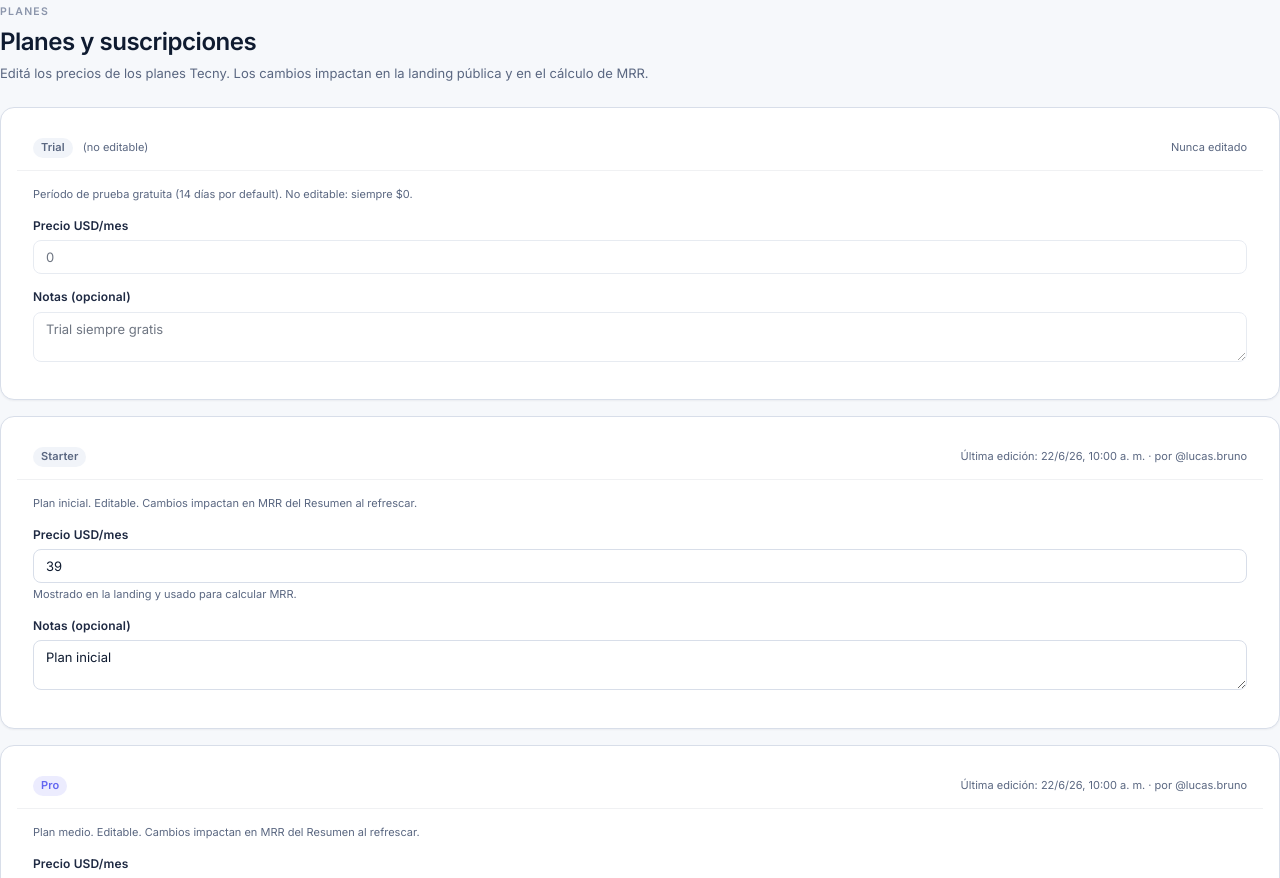
Scenario: Planes › error del backend muestra banner en el modal SIN cerrarlo
Replace the text in the number field named "Precio del plan starter" with "49" at coordinates (640, 566), box x1=33 y1=549 x2=1247 y2=583
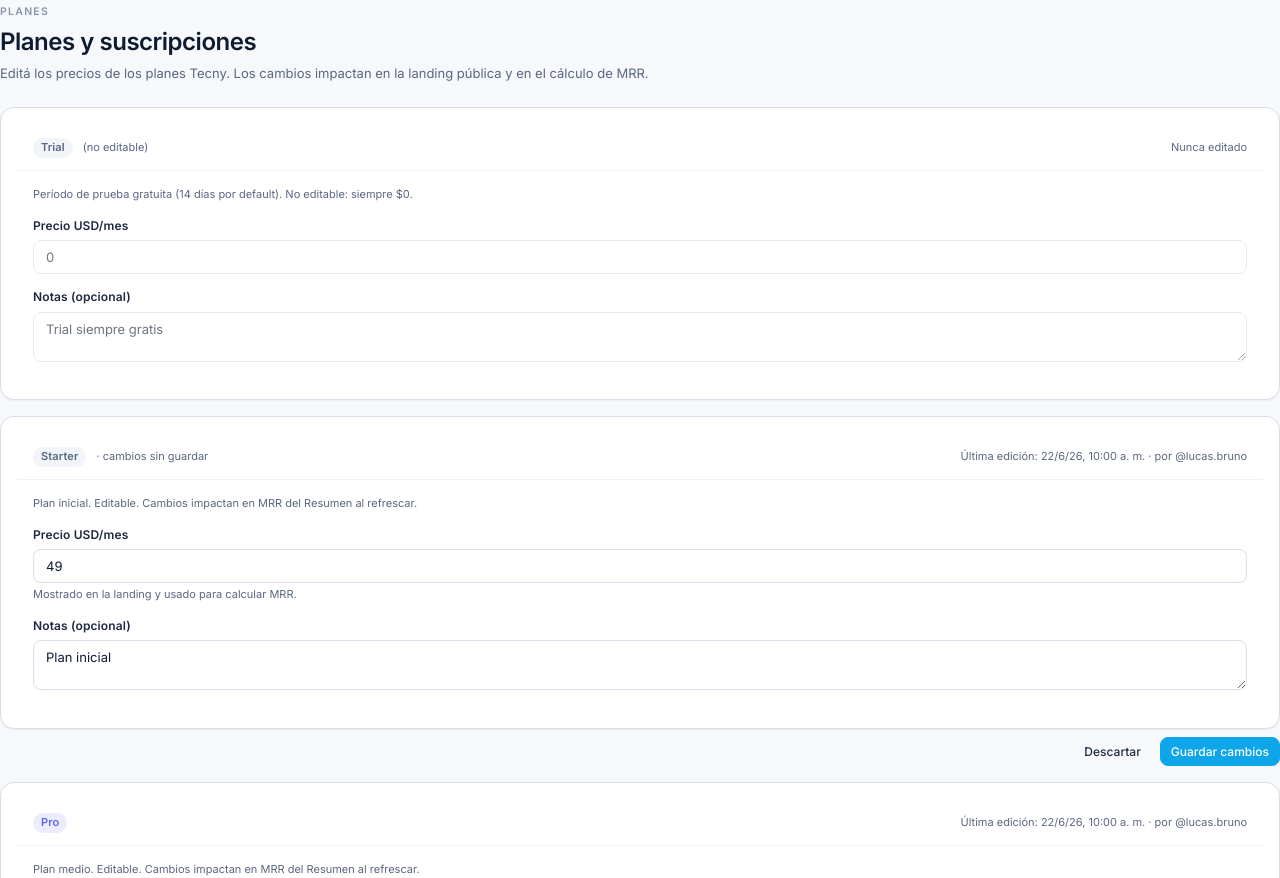
Click the button "Guardar cambios" at coordinates (1220, 751), box x1=1160 y1=737 x2=1279 y2=766
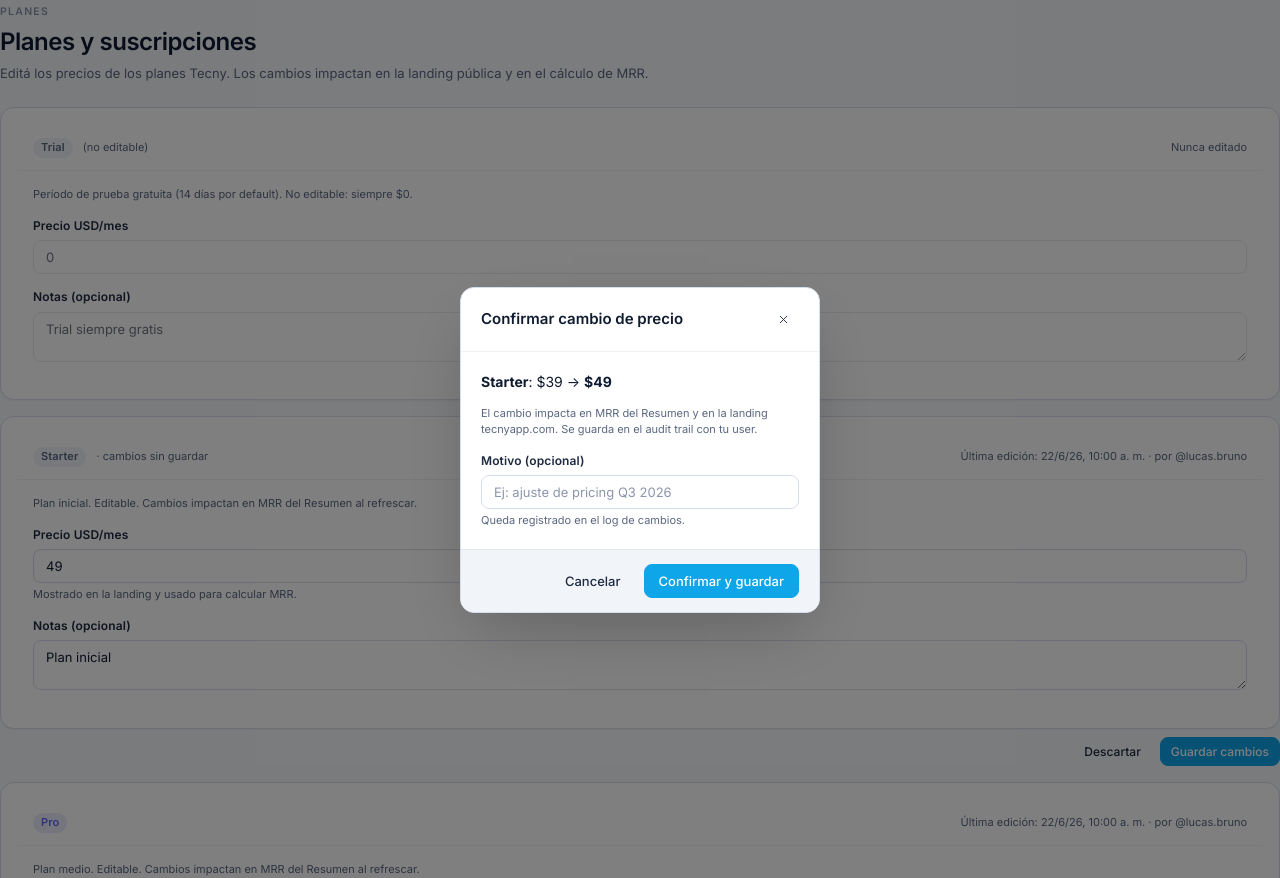
Click the button "Confirmar y guardar" at coordinates (721, 581), box x1=644 y1=564 x2=799 y2=598
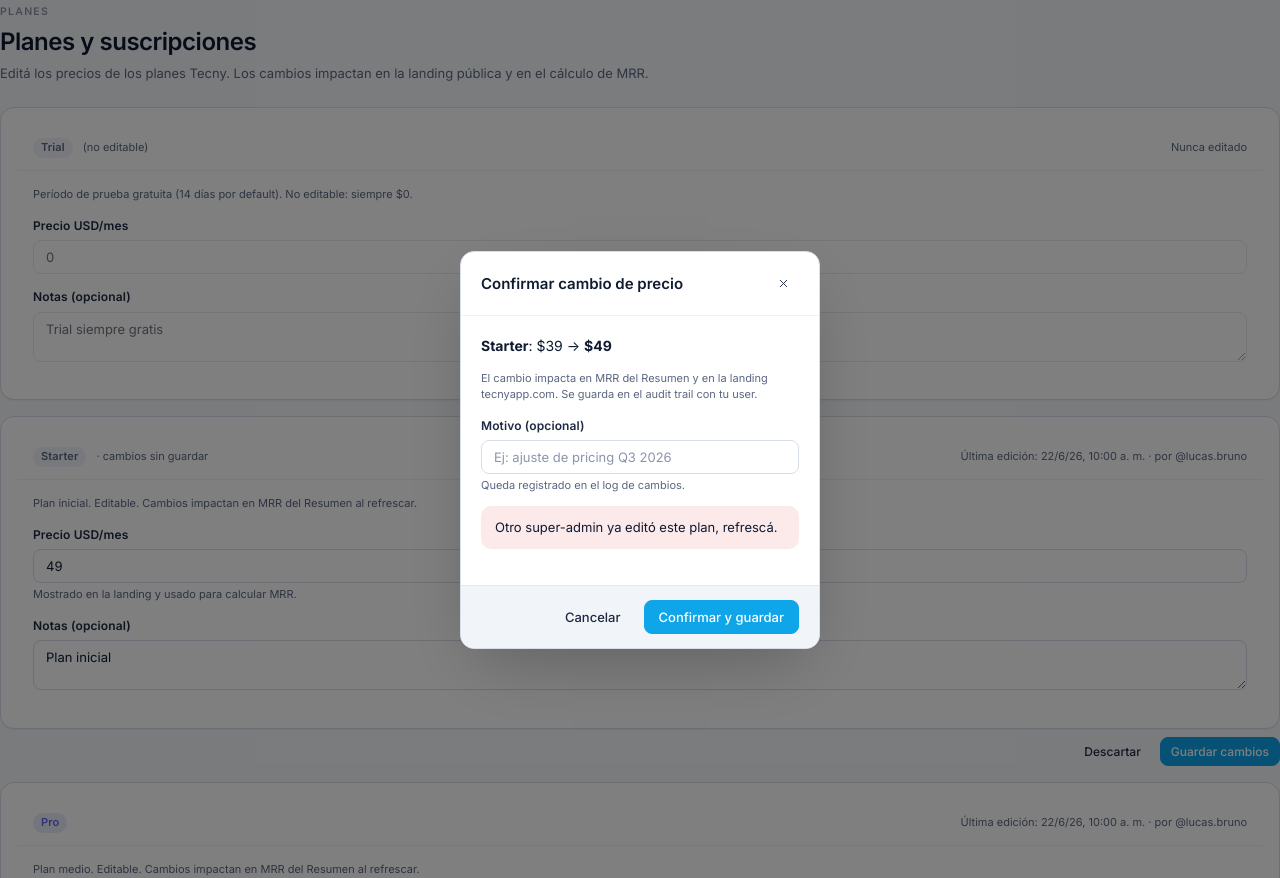
expect the heading "Confirmar cambio de precio" is shown: met, box x1=481 y1=273 x2=683 y2=295
expect the text "Otro super-admin ya editó este plan, refrescá." is shown: met, box x1=481 y1=506 x2=799 y2=549
